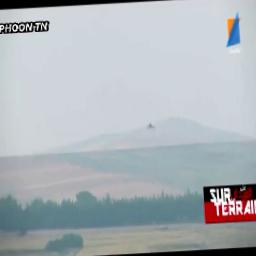Airplane: (145, 121, 156, 130)
